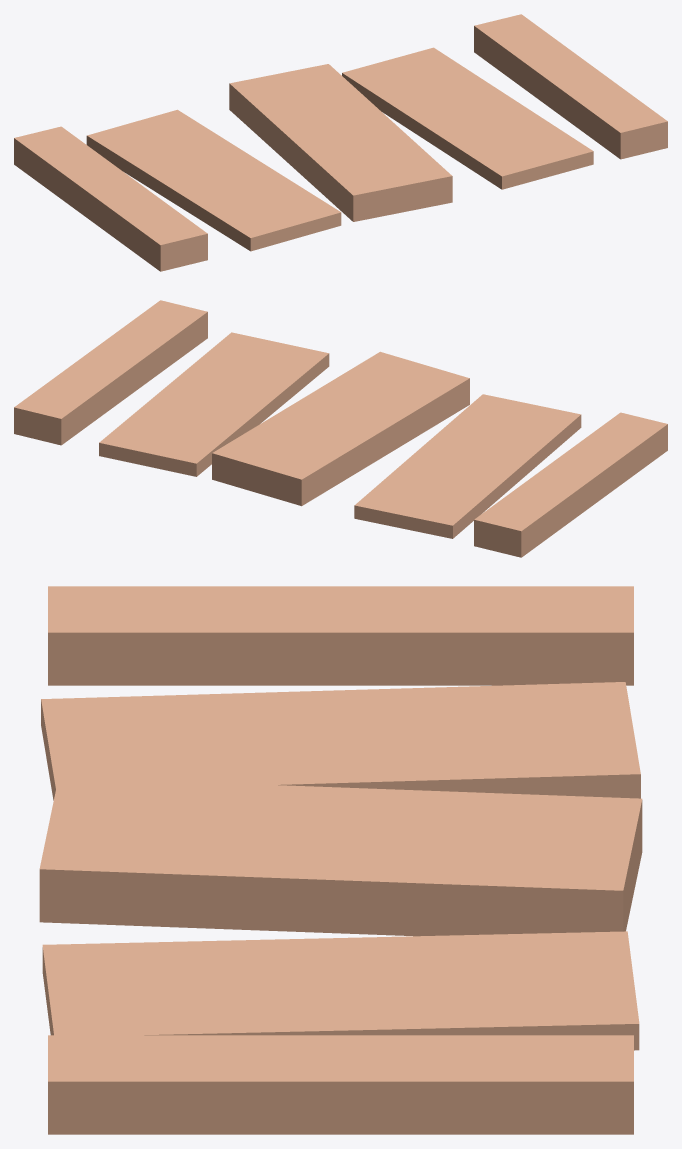
The model's file is path_wood.glb.
3 views of the same model, one above another, from view 1: azimuth 30°, elevation 25°; view 2: azimuth 150°, elevation 25°; view 3: azimuth 270°, elevation 25° (orthographic). The views are drawn at different scales.
Visible parts, largest first — view 1: path_wood; view 2: path_wood; view 3: path_wood.
Part boxes in pixels (x1,y1,x2,y2): path_wood: [14, 14, 667, 271]; path_wood: [14, 300, 667, 557]; path_wood: [39, 586, 642, 1134].
Size of the model in its own units: 1 by 0.05 by 0.5144.
